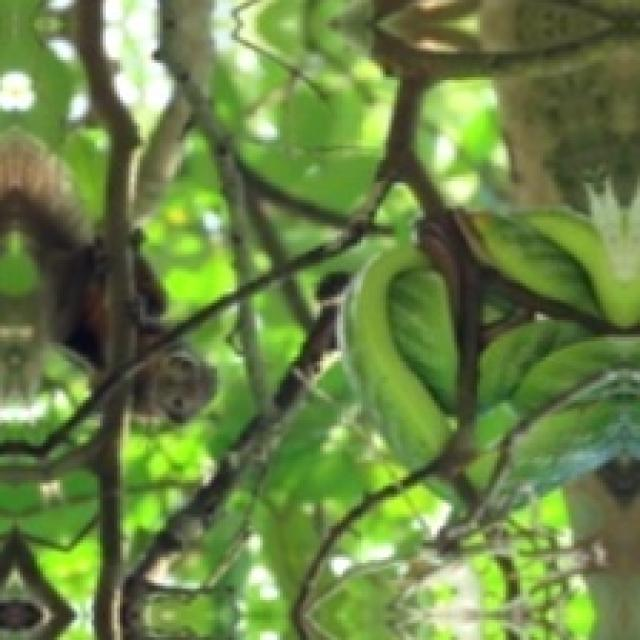red-tailed green ratsnake: (475, 319, 640, 496), (346, 248, 459, 469), (474, 212, 640, 329)
